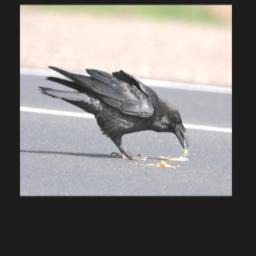Crow: (37, 66, 189, 160)
